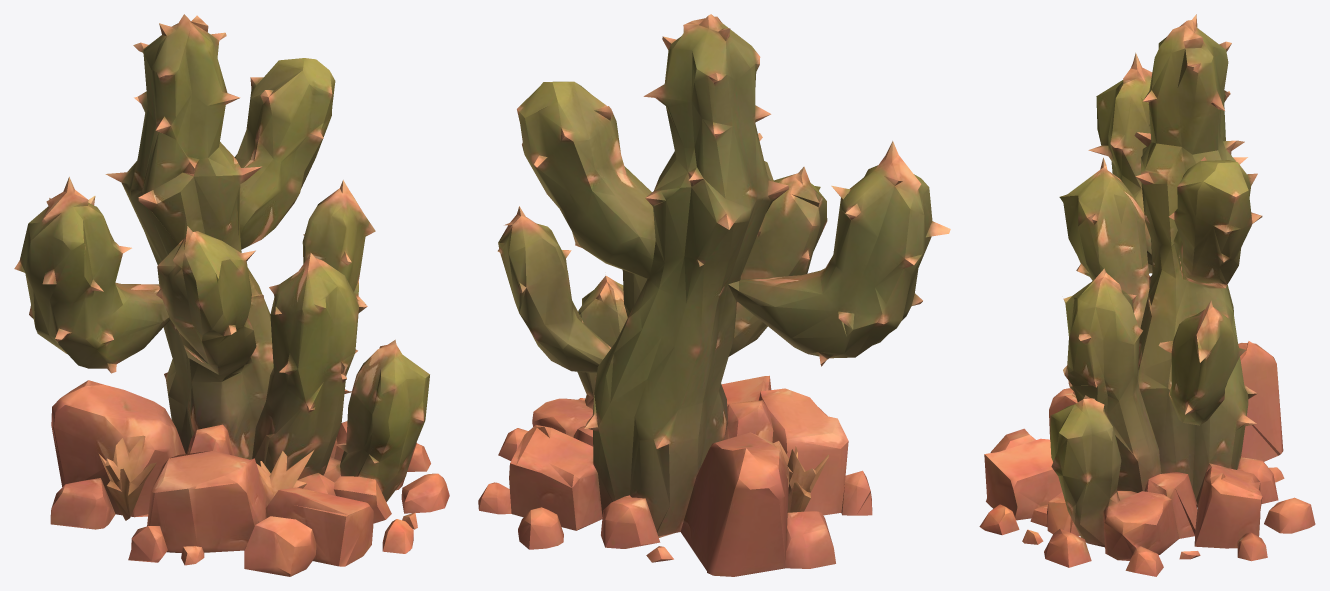
Rendered from cactus.glb.
The picture shows the model from 3 angles, left to right: view 1: azimuth 30°, elevation 25°; view 2: azimuth 150°, elevation 25°; view 3: azimuth 270°, elevation 25°; orthographic projection. The views are drawn at different scales.
Visible parts, largest first — view 1: body; view 2: body; view 3: body.
Part boxes in pixels (x1,y1,x2,y2): body: (14, 14, 449, 576); body: (478, 14, 950, 576); body: (979, 14, 1315, 576).
Bounding box in the file's own units: 1.38 × 1.6 × 1.06.
1 material, 1 textured.
